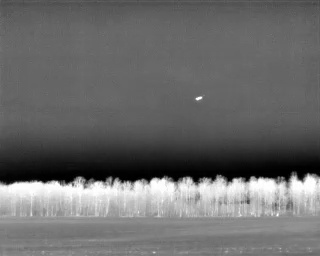DRONE: (192, 91, 207, 105)
